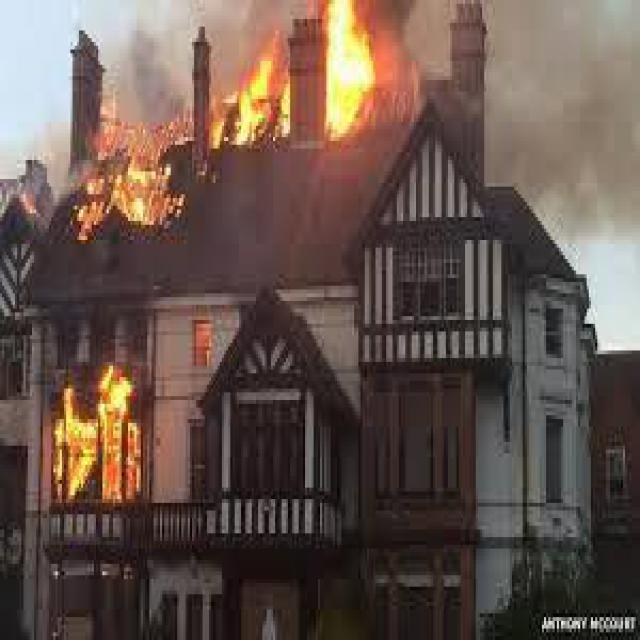fire: (42, 359, 155, 519)
